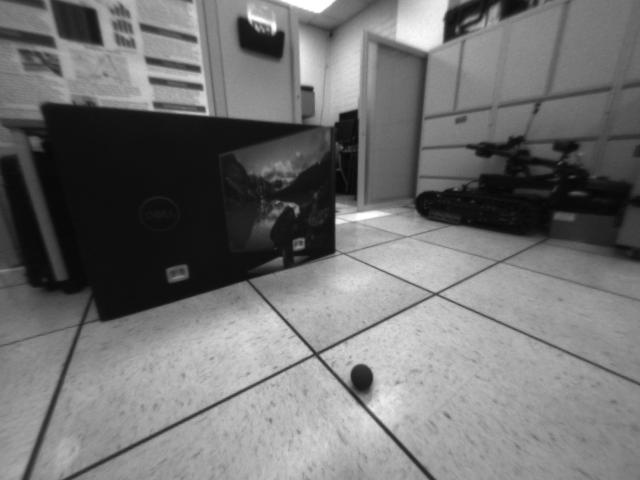dogtoy: (346, 358, 379, 395)
